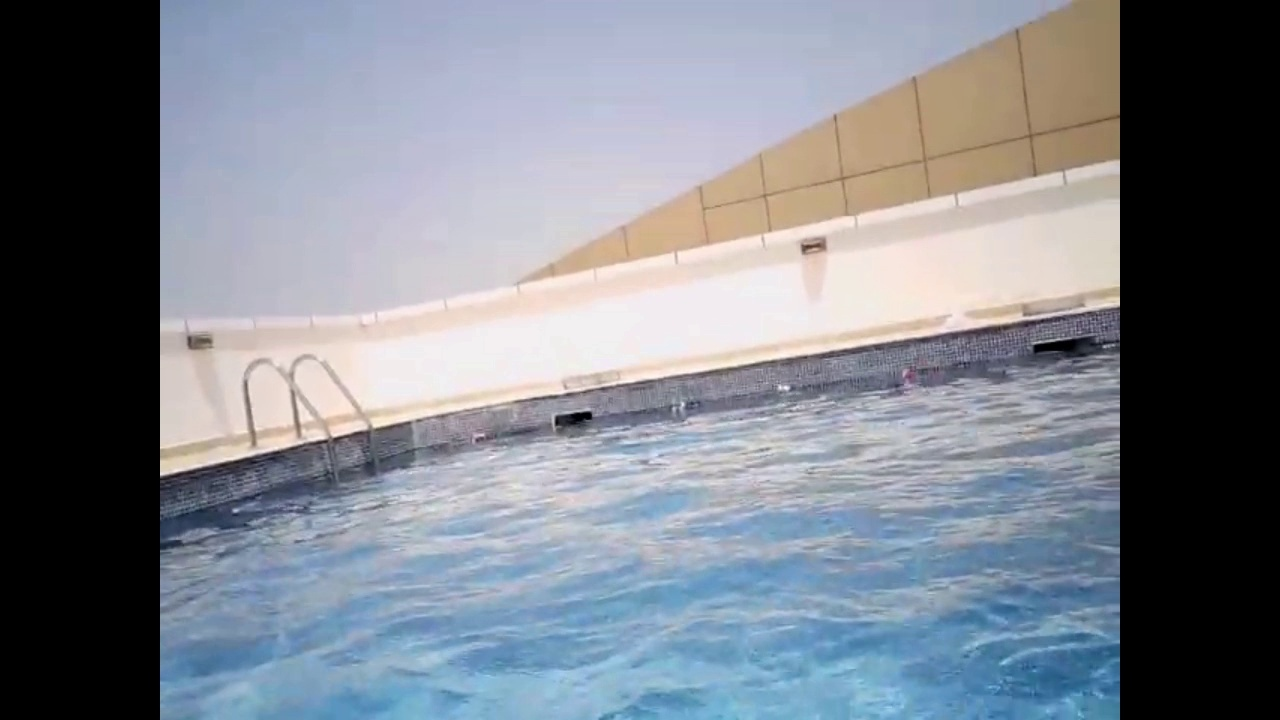debris: (681, 398, 706, 415), (470, 429, 493, 447), (773, 382, 796, 397)
